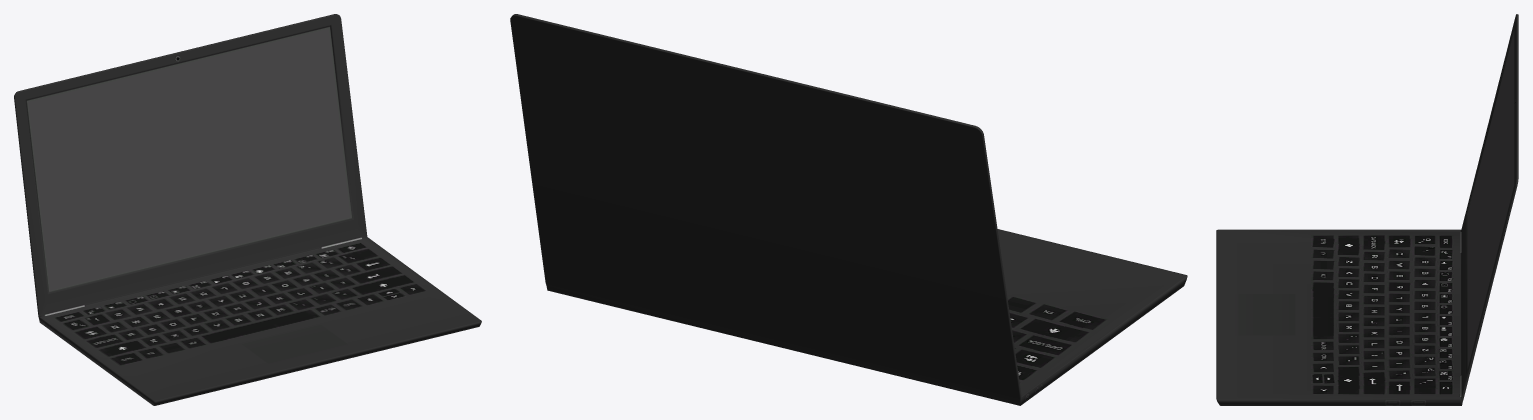
Rendered from SM_Laptop.glb.
The picture shows the model from 3 angles, left to right: view 1: azimuth 30°, elevation 25°; view 2: azimuth 150°, elevation 25°; view 3: azimuth 270°, elevation 25°; orthographic projection. The views are drawn at different scales.
Parts seen in each view (by area): view 1: SM_Laptop; view 2: SM_Laptop; view 3: SM_Laptop.
Part boxes in pixels (<box>): SM_Laptop: <box>14,14,481,405</box>; SM_Laptop: <box>510,14,1187,405</box>; SM_Laptop: <box>1216,14,1518,405</box>.
Bounding box in the file's own units: 0.2904 × 0.1787 × 0.2177.
Materials: 1 (1 with a texture image).
